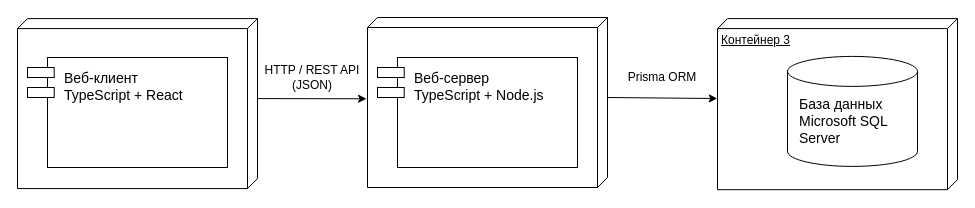
Image size: 975x208. Some labels were removed from this diagram. Each missing label, with the box of its shape:
Контейнер 1: (16, 18, 258, 189)
Контейнер 2: (366, 16, 608, 188)
